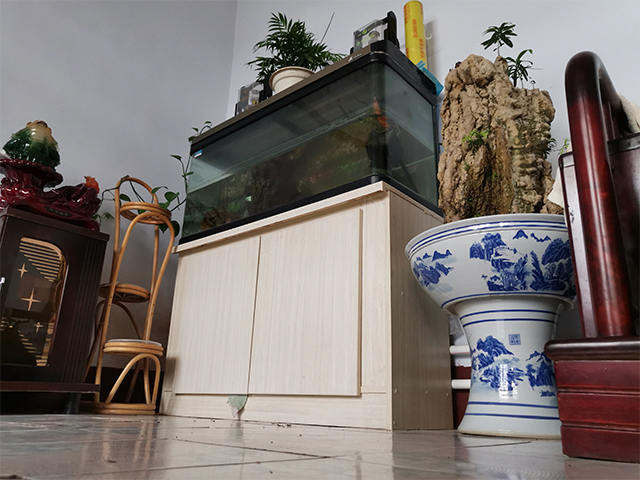cabinet: (157, 180, 445, 431), (1, 117, 112, 417)
